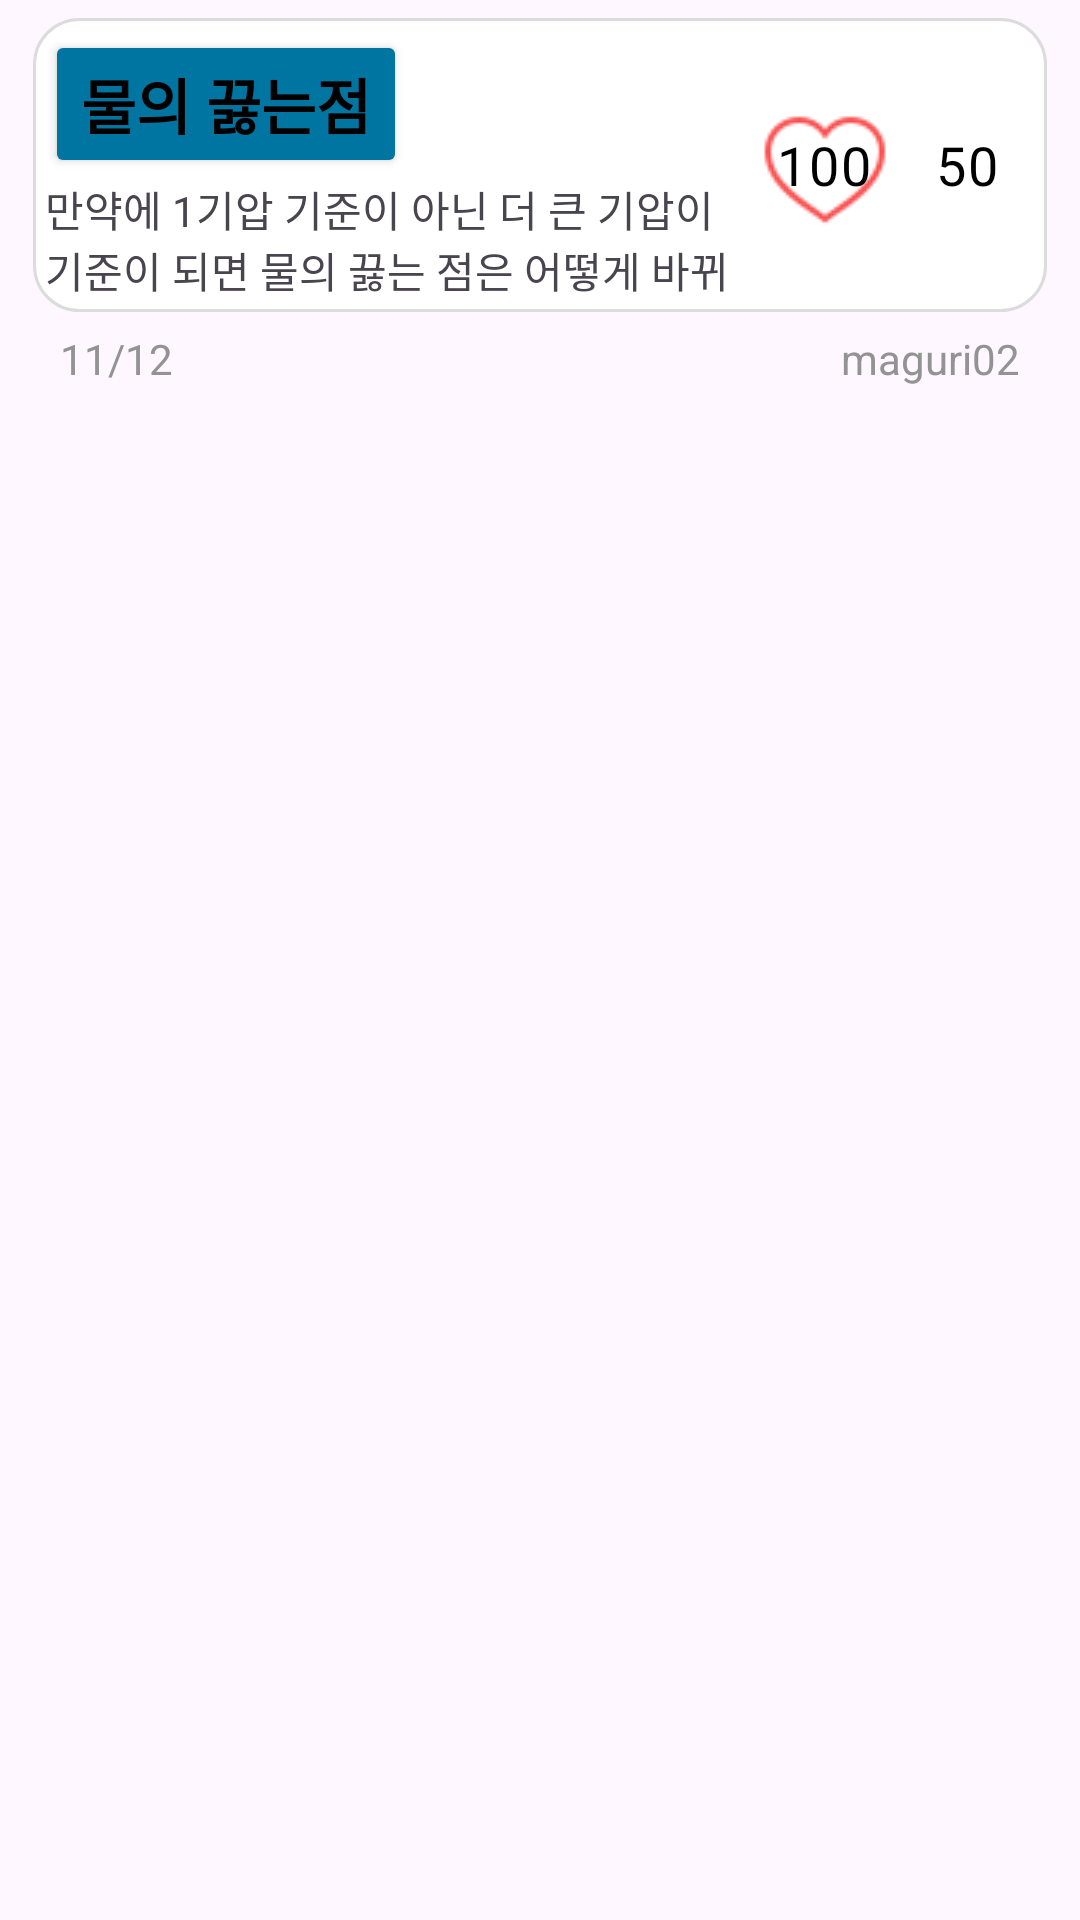

Locate icon controls on the screen. Image size 1080 × 1920, boxes as {"x1": x1, "y1": y1, "x2": x2, "y2": y2}.
like: {"x1": 764, "y1": 116, "x2": 886, "y2": 223}
